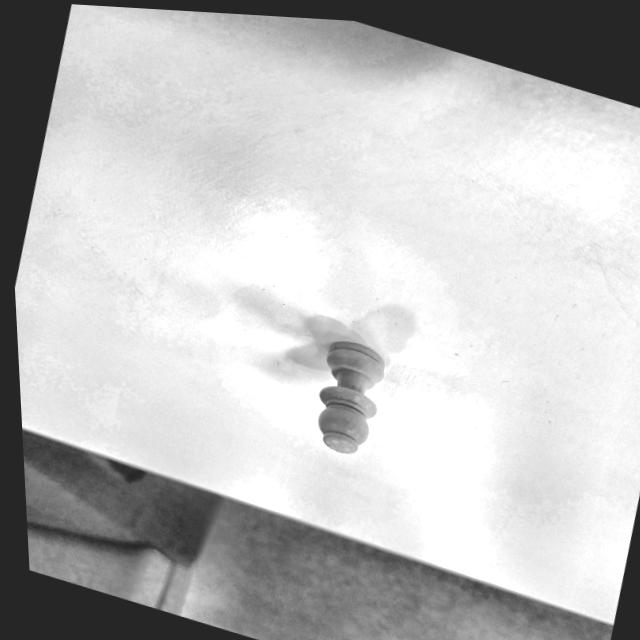white-bishop: (317, 340, 385, 453)
